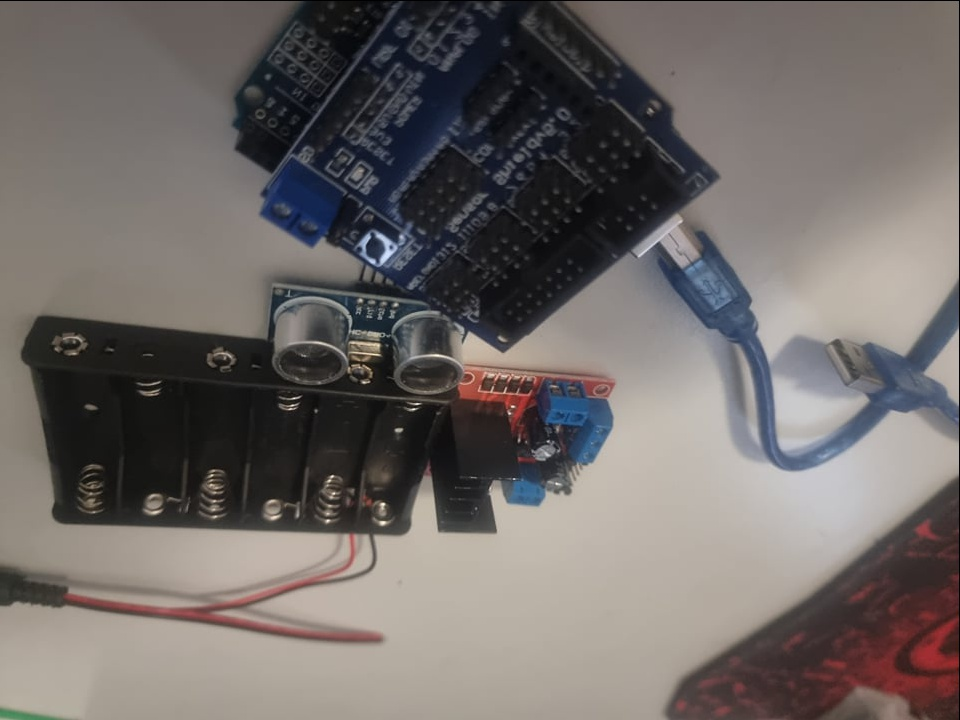5V EXPANSION: (267, 8, 722, 360)
BATTERY BOX: (19, 324, 451, 540)
MOTOR: (424, 364, 620, 535)
SENSOR: (273, 287, 464, 395)
